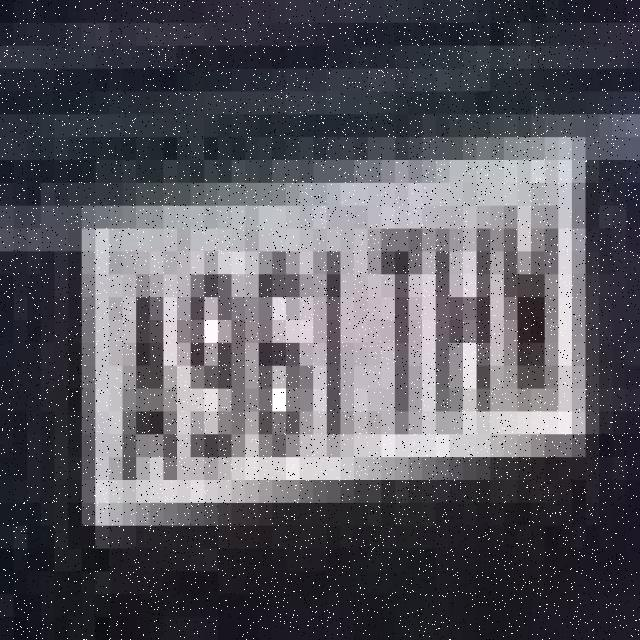licenseplate: (55, 82, 590, 562)
